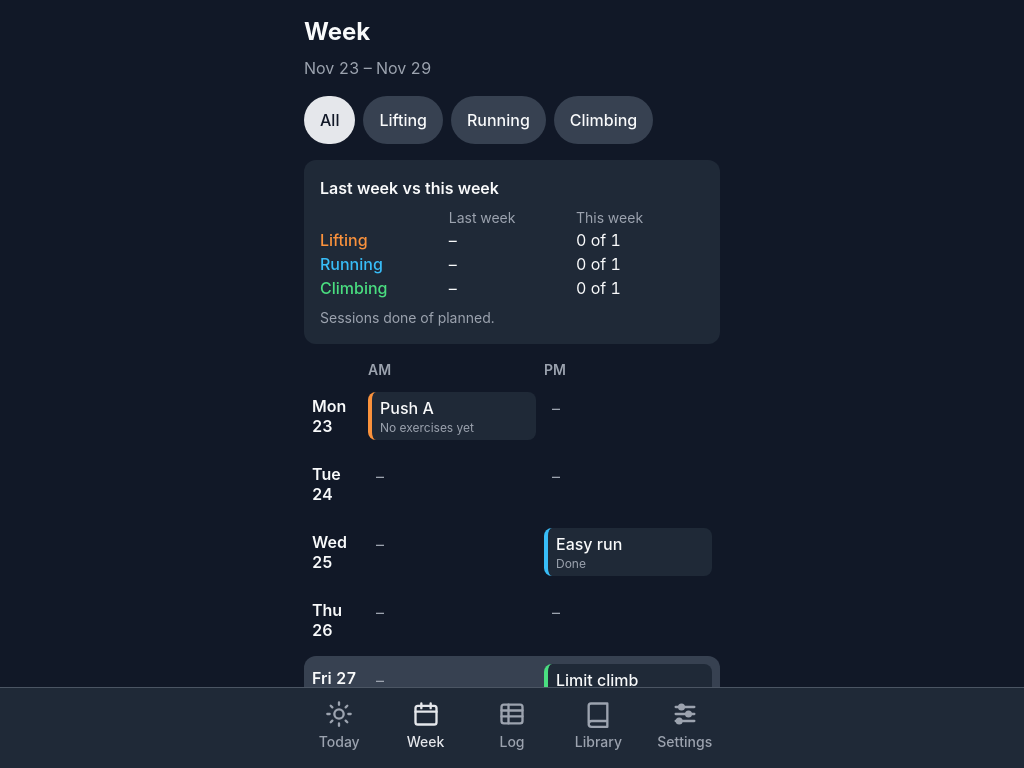
Test: Week › keeps finished sessions in place
What coordinates should you click on to do the following:
click the button "Easy run Done"
I would click on:
 (628, 552)
Its box is [544,528,712,576].
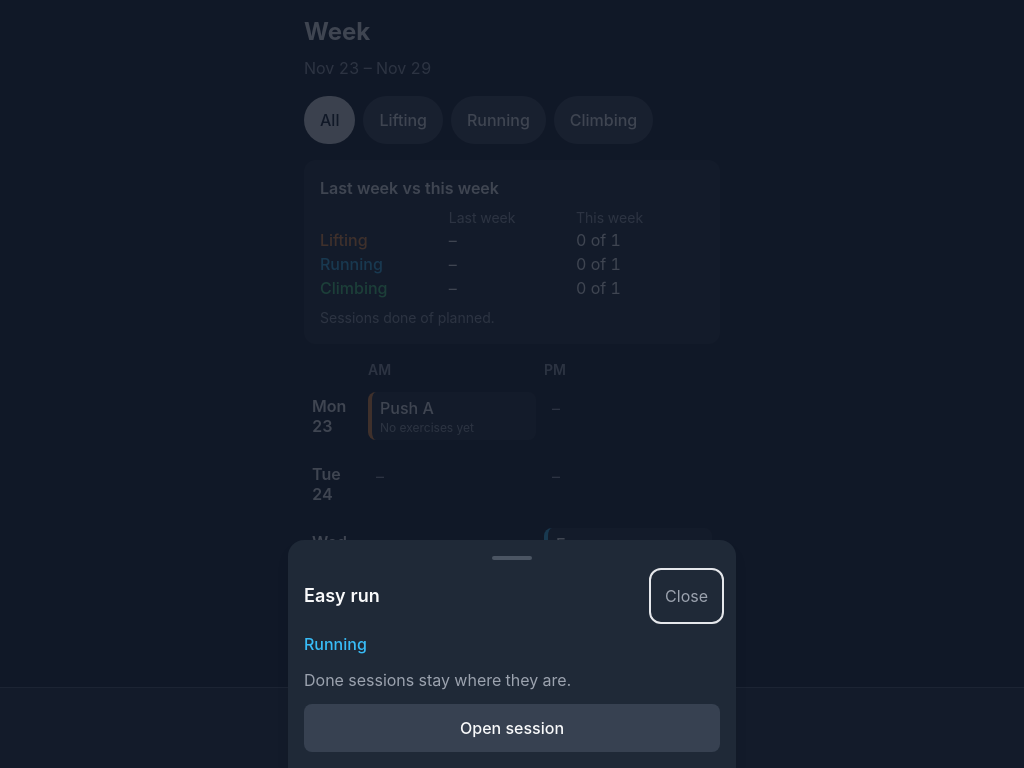
Expected: the text "Done sessions stay where they are." is shown, [304,670,571,690]
